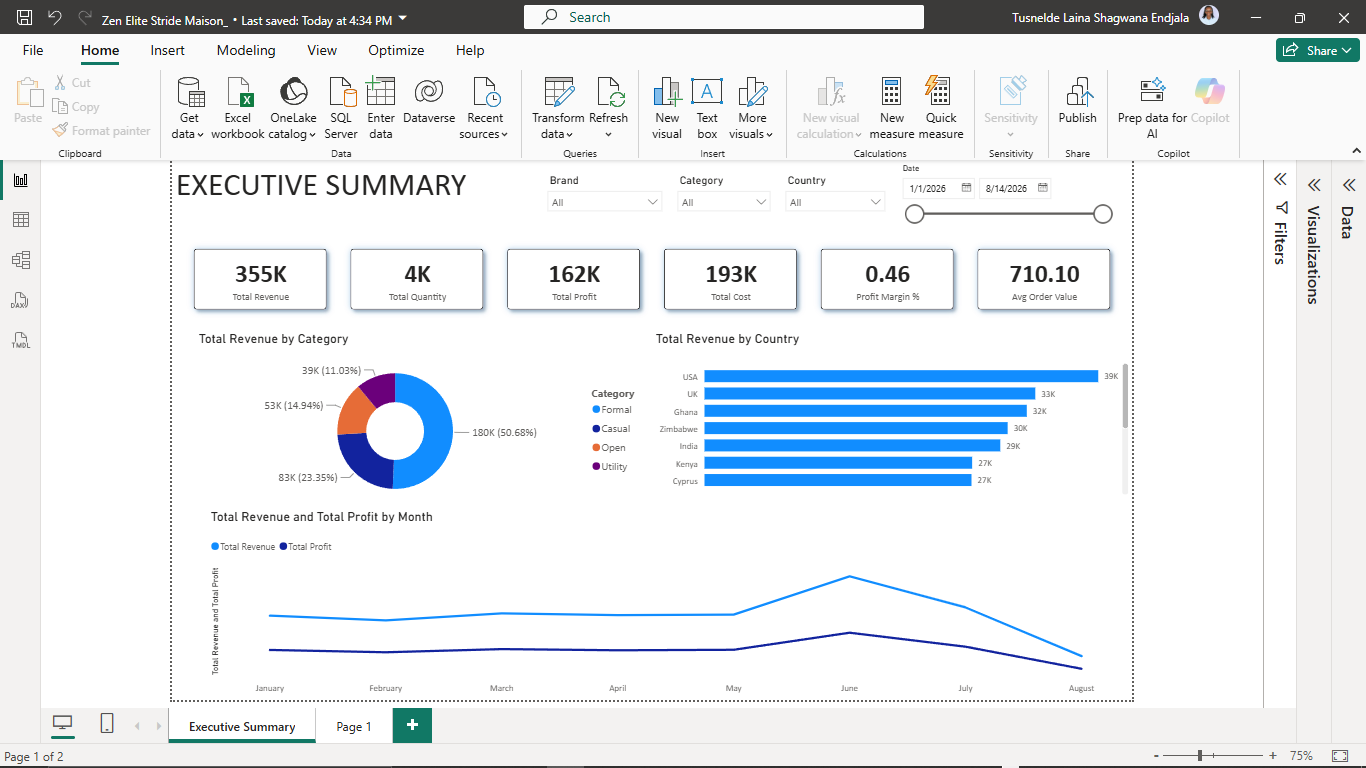

The dashboard page shown, as its layout file describes it:
{"tool":"powerbi","page":{"name":"Executive Summary","canvas":[1280,720],"ordinal":0},"visuals":[{"type":"cardVisual","fields":{"Data":["Measure Table.Total Revenue","Measure Table.Total Quantity","Measure Table.Total Profit","Measure Table.Total Cost","Measure Table.Profit Margin %","Measure Table.Avg Order Value"]},"box":[0,89,1280,139.4],"z":0},{"type":"lineChart","fields":{"Category":["Shoe Sales.Date.Variation.Date Hierarchy.Month"],"Y":["Measure Table.Total Revenue","Measure Table.Total Profit"]},"box":[47,465.3,1233,255.3],"z":1000},{"type":"donutChart","fields":{"Category":["Shoe Sales.Category"],"Y":["Measure Table.Total Revenue"]},"box":[30.2,228.5,609.8,236.9],"z":2000},{"type":"clusteredBarChart","fields":{"Category":["Shoe Sales.Country"],"Y":["Measure Table.Total Revenue"]},"box":[640,228.5,640,223.4],"z":3000},{"type":"textbox","box":[0,0,407.1,62.9],"z":4000},{"type":"slicer","fields":{"Values":["Shoe Sales.Brand"]},"box":[490.5,13.4,173,63.8],"z":4001},{"type":"slicer","fields":{"Values":["Shoe Sales.Category"]},"box":[663.5,13.4,144.5,63.8],"z":4002},{"type":"slicer","fields":{"Values":["Shoe Sales.Country"]},"box":[808,13.4,152.9,63.8],"z":4003},{"type":"slicer","fields":{"Values":["Shoe Sales.Date"]},"box":[960.8,0,300.7,109.2],"z":4004}]}

Visuals, with their boxes on the page's 1280x720 design canvas (x1, y1, x2, y2). These are canvas units, not pixel positions in the 1366x768 screenshot, which may show the page scaled, cropped or inside an application window:
cardVisual - Measure Table.Total Revenue x Measure Table.Total Quantity: (0,89,1280,228)
lineChart - Shoe Sales.Date.Variation.Date Hierarchy.Month x Measure Table.Total Revenue: (47,465,1280,721)
donutChart - Shoe Sales.Category x Measure Table.Total Revenue: (30,228,640,465)
clusteredBarChart - Shoe Sales.Country x Measure Table.Total Revenue: (640,228,1280,452)
textbox: (0,0,407,63)
slicer - Shoe Sales.Brand: (490,13,664,77)
slicer - Shoe Sales.Category: (664,13,808,77)
slicer - Shoe Sales.Country: (808,13,961,77)
slicer - Shoe Sales.Date: (961,0,1262,109)
